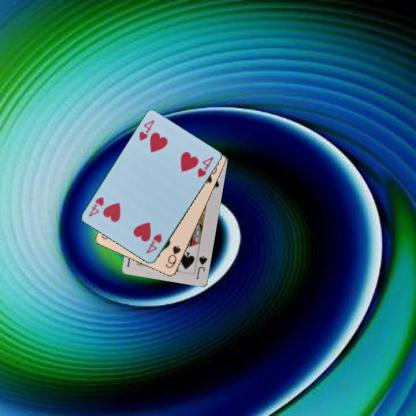4h: (136, 117, 156, 142), (143, 231, 163, 255)
6s: (163, 242, 182, 270)
Js: (194, 253, 209, 280)
